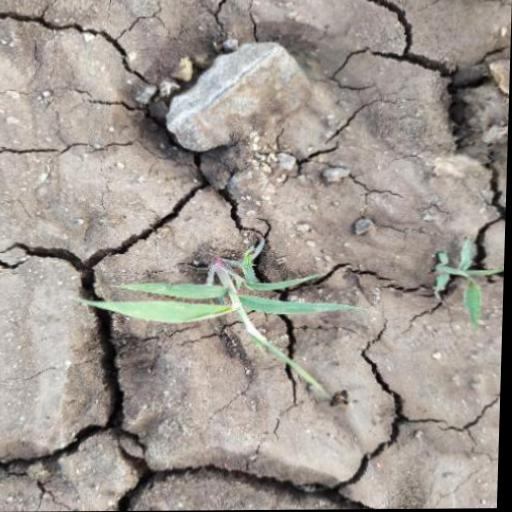weed: (84, 240, 381, 436)
